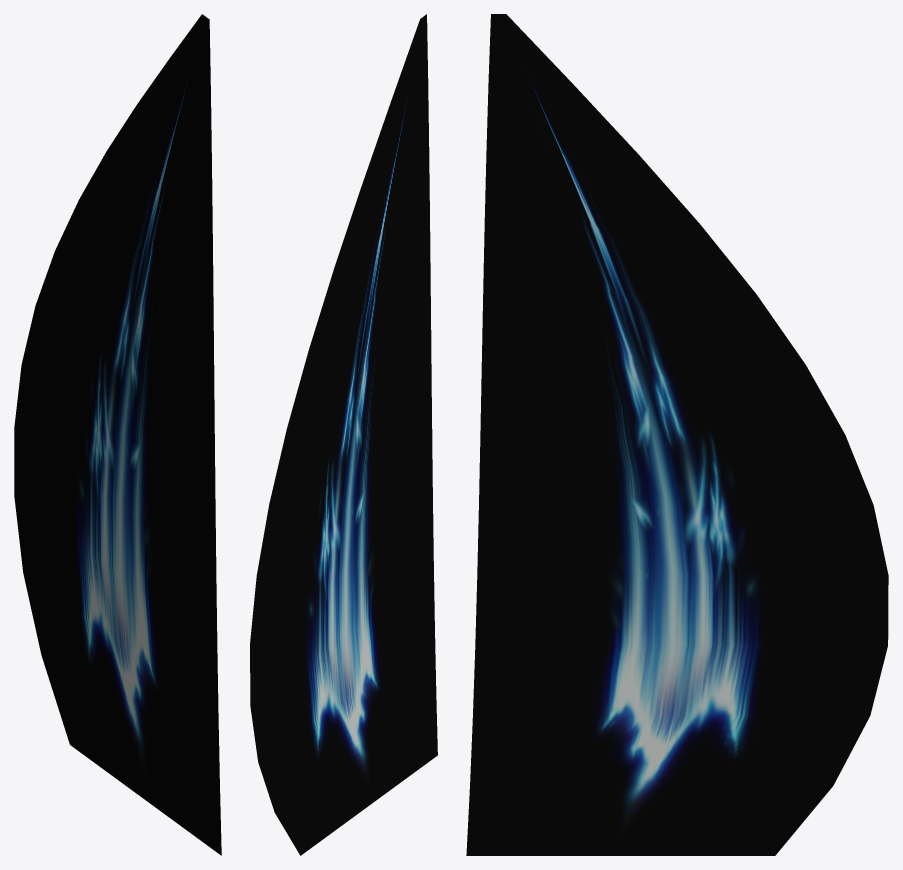
File: effect_shudaoguang.FBX
The picture shows the model from 3 angles, left to right: view 1: azimuth 30°, elevation 25°; view 2: azimuth 150°, elevation 25°; view 3: azimuth 270°, elevation 25°; orthographic projection. The views are drawn at different scales.
Parts seen in each view (by area): view 1: effect_shudaoguang; view 2: effect_shudaoguang; view 3: effect_shudaoguang.
Boxes of the visible parts, x1,y1,x2,y2 form: effect_shudaoguang: (14,14,221,855); effect_shudaoguang: (250,14,437,855); effect_shudaoguang: (466,14,888,855).
Size of the model in its own units: 0.000242 by 542 by 246.
